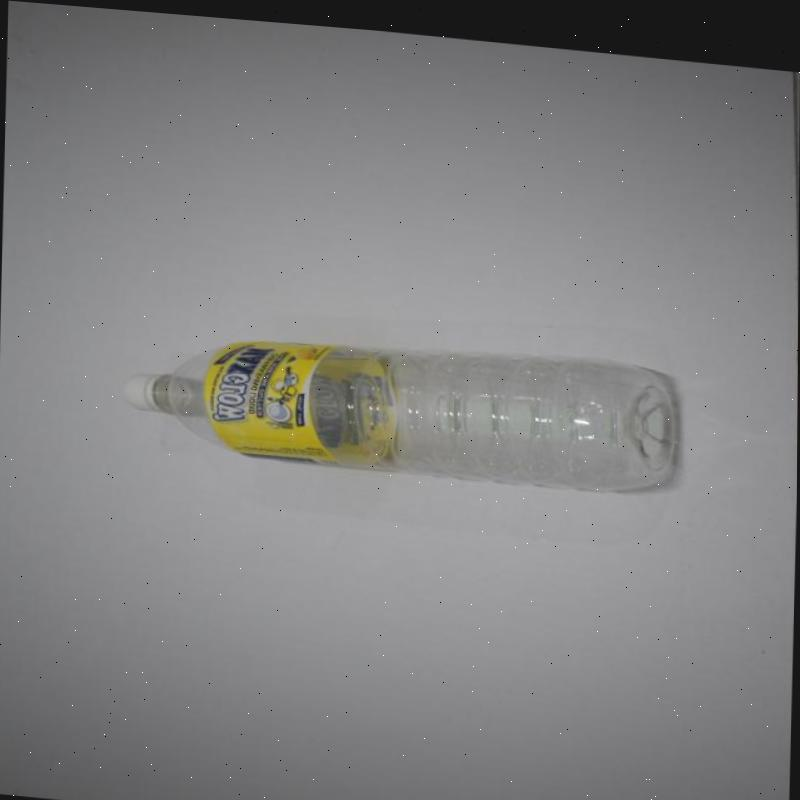botella: (120, 310, 678, 491)
